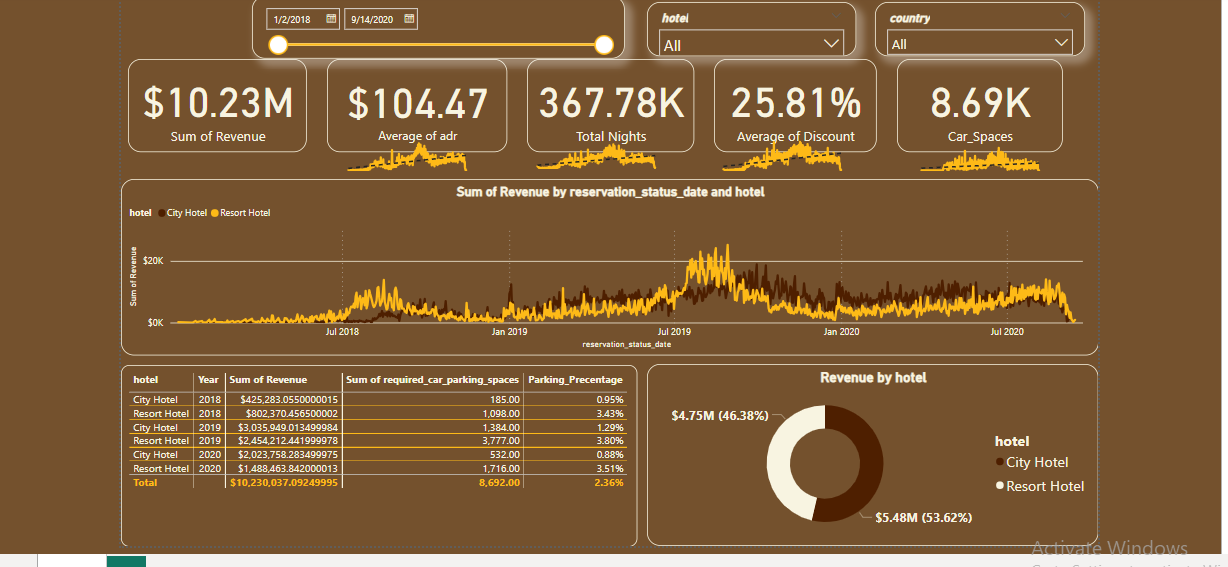

Layout of this report page (visuals, bound fields, positions):
{"tool":"powerbi","page":{"name":"hotel","canvas":[1280,720],"ordinal":0},"visuals":[{"type":"card","fields":{"Values":["Sum(Query1.Revenue)"]},"box":[9.6,82.5,233.7,122.4],"z":2},{"type":"card","fields":{"Values":["Avg(Query1.adr)"]},"box":[269.5,82.5,236.5,122.4],"z":3},{"type":"card","fields":{"Values":["Query1.Total Nights"]},"box":[532.1,82.5,218.6,122.4],"z":4},{"type":"card","fields":{"Values":["Avg(Query1.Discount)"]},"box":[776.8,82.5,213.1,122.4],"z":5},{"type":"lineChart","fields":{"Category":["Query1.reservation_status_date"],"Y":["Sum(Query1.Revenue)"],"Series":["Query1.hotel"]},"box":[0,239.2,1280,231],"z":6},{"type":"slicer","fields":{"Values":["Query1.country"]},"box":[987.2,8.2,275,71.5],"z":7},{"type":"slicer","fields":{"Values":["Query1.hotel"]},"box":[688.8,8.2,273.6,71.5],"z":8},{"type":"lineChart","fields":{"Category":["Query1.reservation_status_date"],"Y":["Sum(Query1.adr)"]},"box":[283.2,174.6,184.2,60.5],"z":9},{"type":"lineChart","fields":{"Category":["Query1.reservation_status_date"],"Y":["Query1.Total Nights"]},"box":[530.7,171.9,184.2,60.5],"z":10},{"type":"lineChart","fields":{"Category":["Query1.reservation_status_date"],"Y":["Sum(Query1.Discount)"]},"box":[774,174.6,184.2,60.5],"z":11},{"type":"card","fields":{"Values":["Sum(Query1.required_car_parking_spaces)"]},"box":[1016,82.5,217.2,122.4],"z":12},{"type":"lineChart","fields":{"Category":["Query1.reservation_status_date"],"Y":["Sum(Query1.required_car_parking_spaces)"]},"box":[1032.5,174.6,184.2,60.5],"z":13},{"type":"donutChart","fields":{"Y":["Sum(Query1.Revenue)"],"Category":["Query1.hotel"]},"box":[688.8,481.2,591.2,237.9],"z":14},{"type":"tableEx","fields":{"Values":["Query1.hotel","Query1.reservation_status_date.Variation.Date Hierarchy.Year","Sum(Query1.Revenue)","Sum(Query1.required_car_parking_spaces)","Query1.Parking_Precentage"]},"box":[0,482.6,676.4,237.9],"z":15},{"type":"slicer","fields":{"Values":["Query1.reservation_status_date"]},"box":[171.9,0,488.1,82.5],"z":16}]}

Visuals, with their boxes in screenshot pixels (x1, y1, x2, y2):
card - Sum(Query1.Revenue): box(234, 54, 416, 149)
card - Avg(Query1.adr): box(436, 54, 619, 149)
card - Query1.Total Nights: box(640, 54, 809, 149)
card - Avg(Query1.Discount): box(829, 54, 995, 149)
lineChart - Query1.reservation_status_date x Sum(Query1.Revenue): box(227, 176, 1219, 355)
slicer - Query1.country: box(992, 0, 1206, 52)
slicer - Query1.hotel: box(761, 0, 973, 52)
lineChart - Query1.reservation_status_date x Sum(Query1.adr): box(447, 126, 589, 173)
lineChart - Query1.reservation_status_date x Query1.Total Nights: box(638, 124, 781, 171)
lineChart - Query1.reservation_status_date x Sum(Query1.Discount): box(827, 126, 970, 173)
card - Sum(Query1.required_car_parking_spaces): box(1015, 54, 1183, 149)
lineChart - Query1.reservation_status_date x Sum(Query1.required_car_parking_spaces): box(1028, 126, 1170, 173)
donutChart - Sum(Query1.Revenue) x Query1.hotel: box(761, 363, 1219, 548)
tableEx - Query1.hotel x Query1.reservation_status_date.Variation.Date Hierarchy.Year: box(227, 365, 751, 549)
slicer - Query1.reservation_status_date: box(360, 0, 739, 54)
